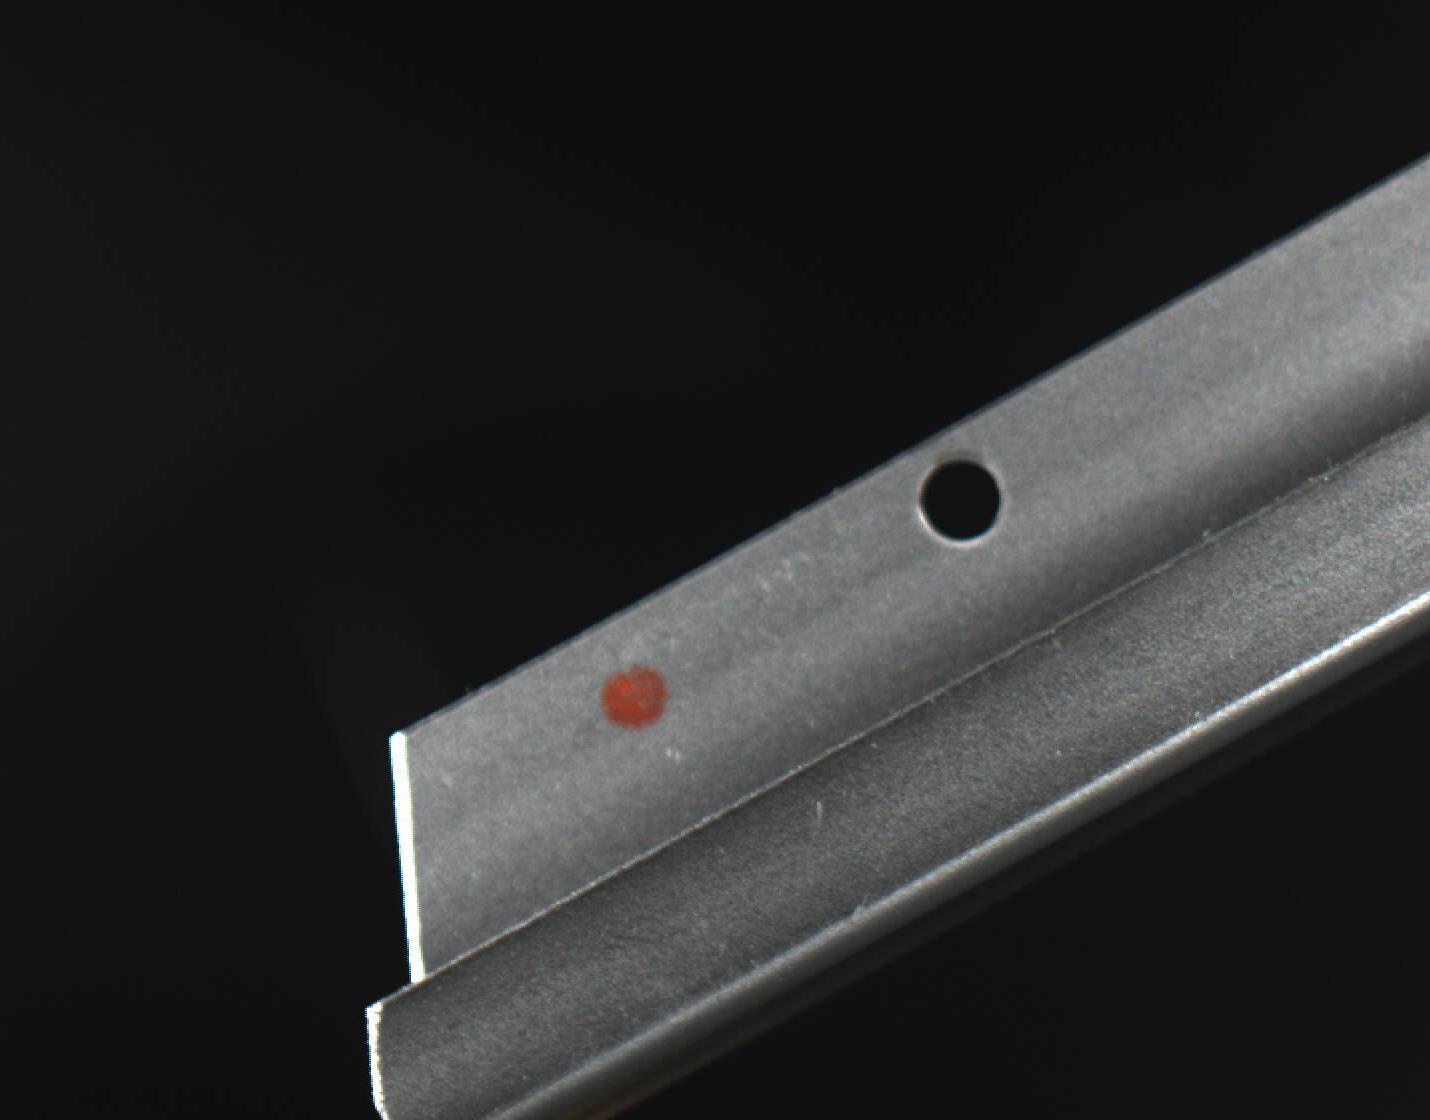cut: (306, 633, 816, 1113)
holes: (918, 458, 1005, 545)
